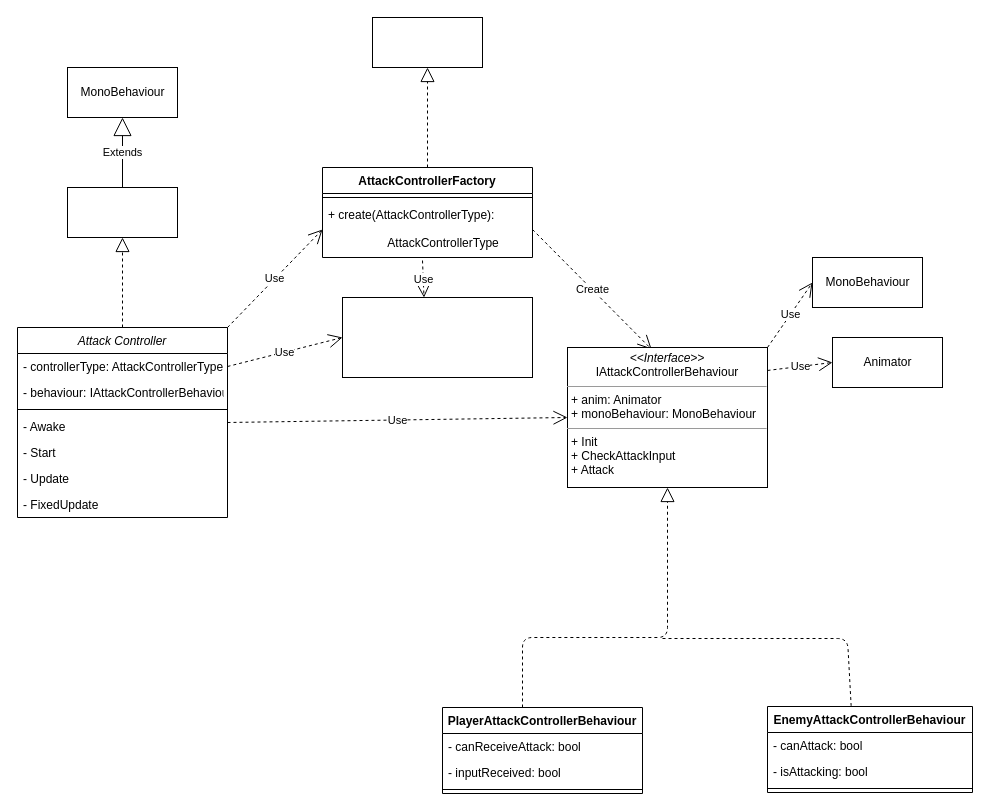
This 990x811 diagram has some shape labels left out. The shapes that lost their labels are listed below. From the top down, each one's centre as x and y in pixels, then its label:
At point (427, 42): "«interface» Singleton".
At point (122, 212): "«interface» IAttackController".
At point (437, 337): "<< enumeration>> AttackControllerType + player + enemy".
